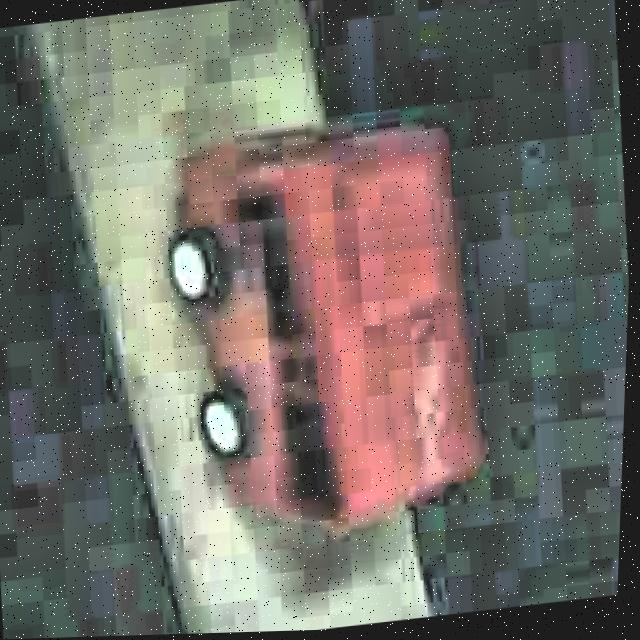bus: (140, 105, 503, 556)
